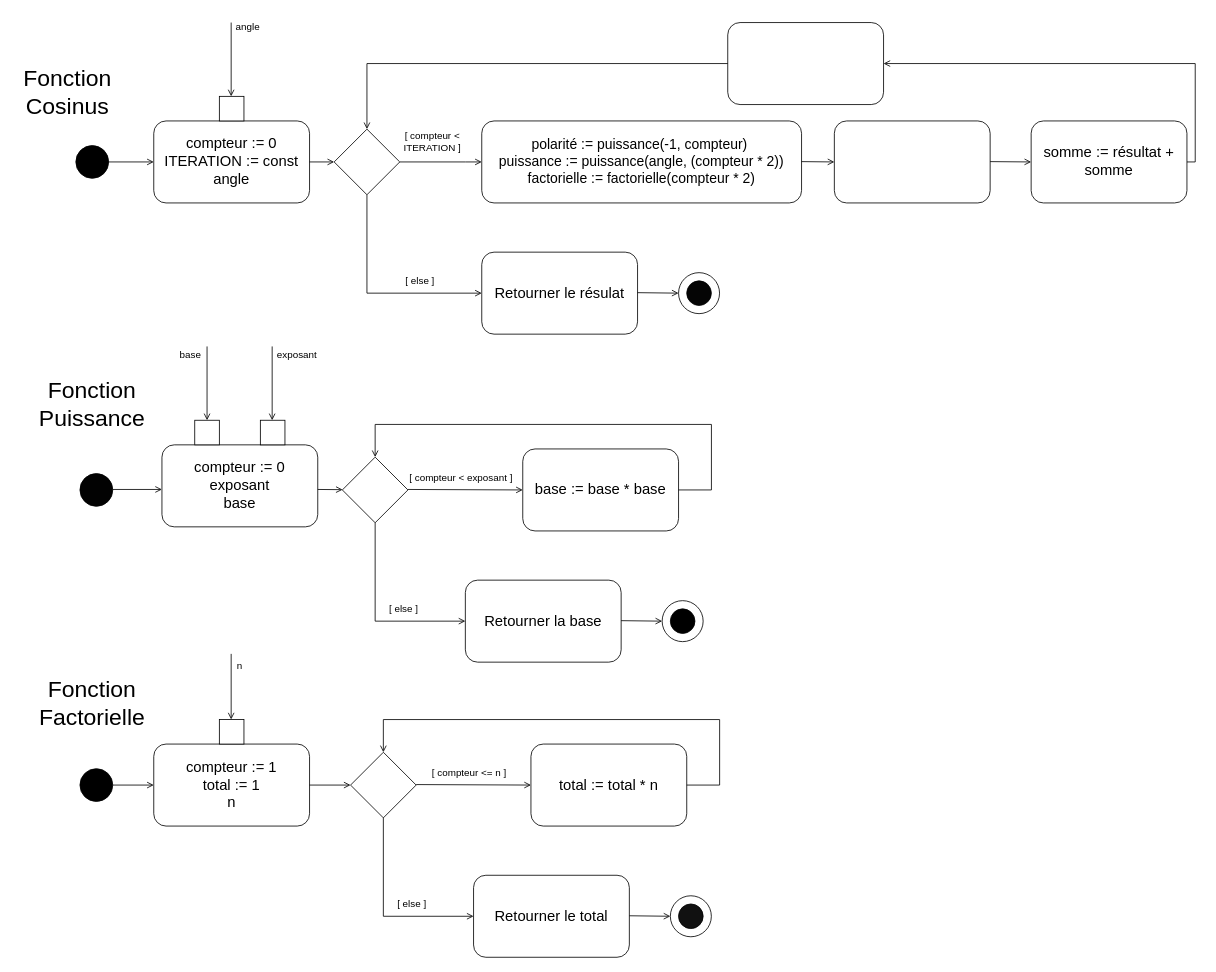
The diagram is 1216 pixels wide and 972 high, and some of its shapes have lost their labels. Here are the shapes that lost their labels. From the top down, the centre of each, then its label:
At [805,63]: "compteur := compteur + 1".
At [912,161]: "résultat := polarité * puissance / factorielle".
